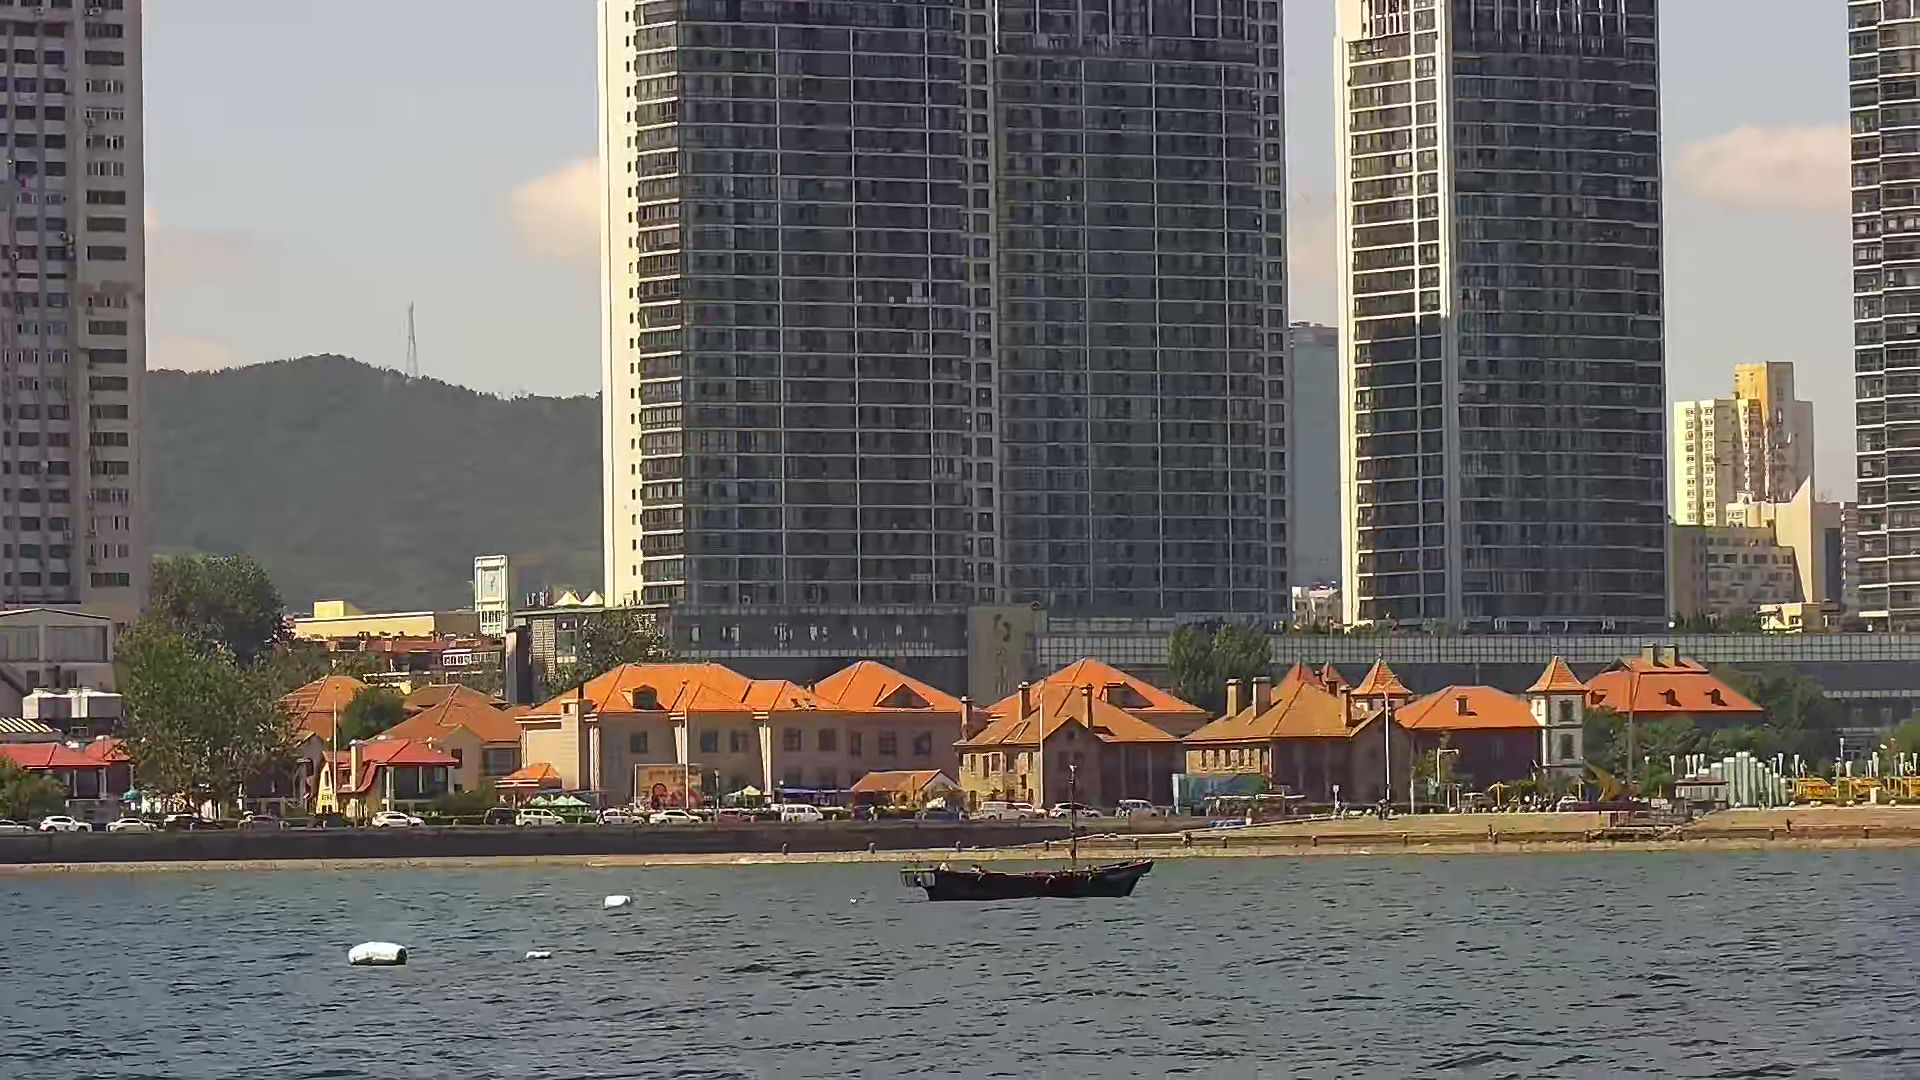boat: (901, 858, 1159, 897)
rubbish: (348, 938, 409, 968), (603, 887, 636, 909), (518, 947, 553, 963)
